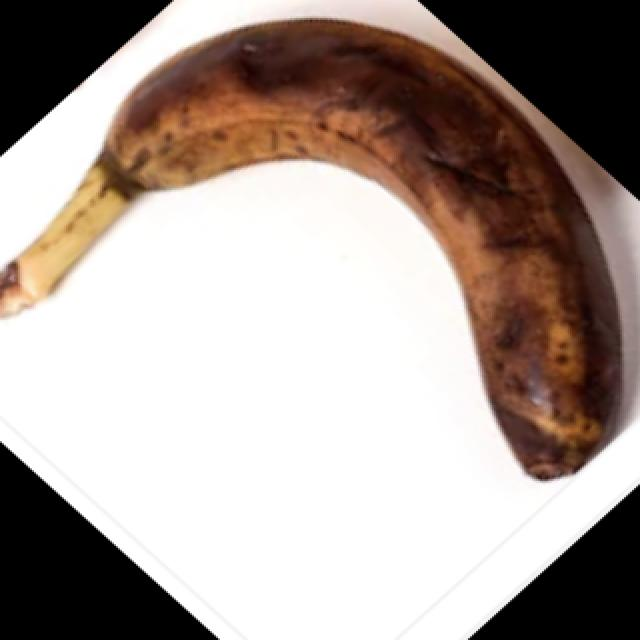Rotten: (2, 19, 622, 482)
